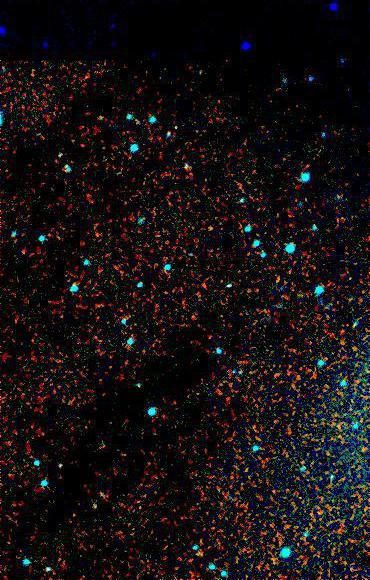star: (196, 215, 226, 245)
